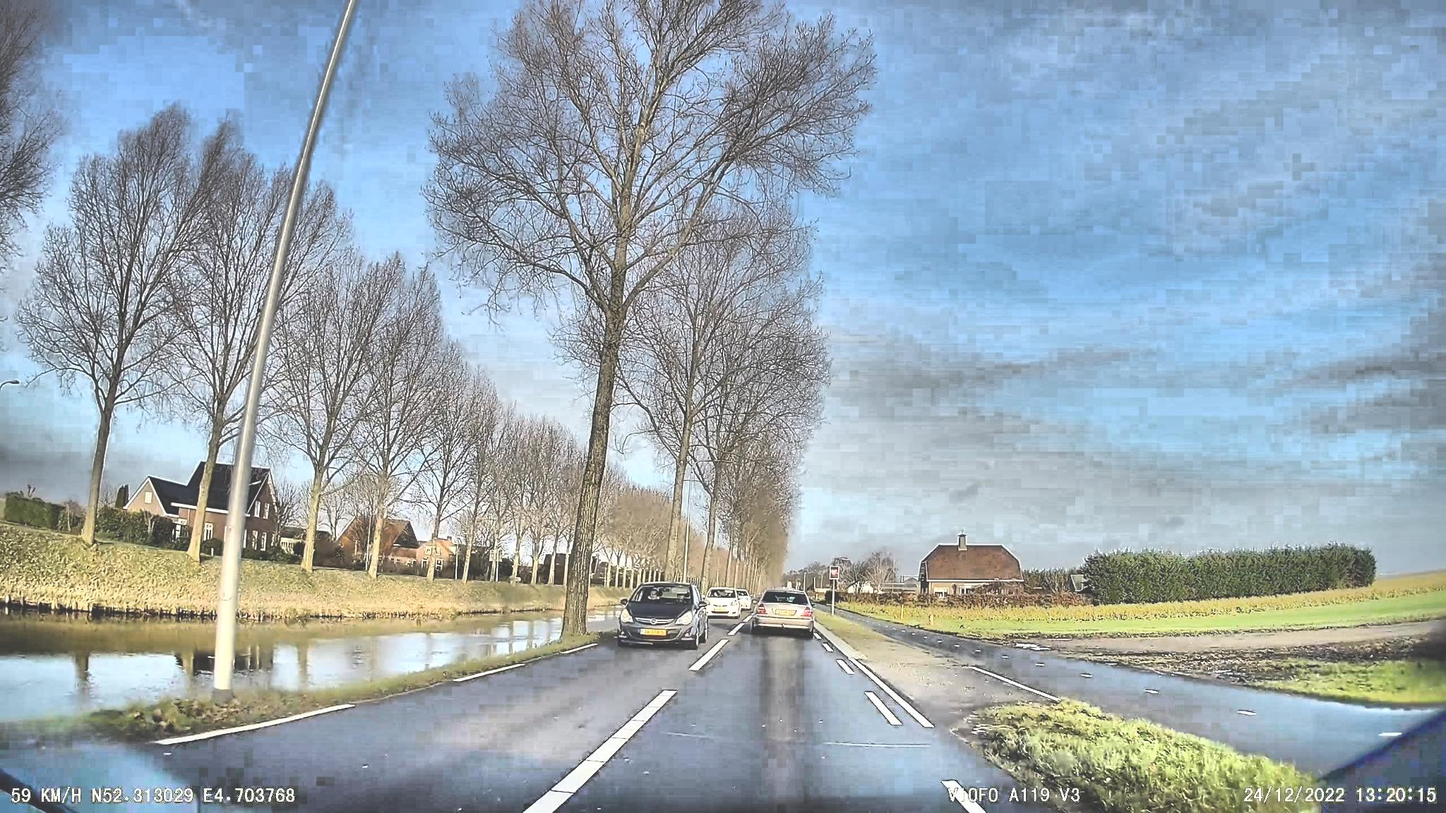Roads: (0, 630, 1073, 813)
